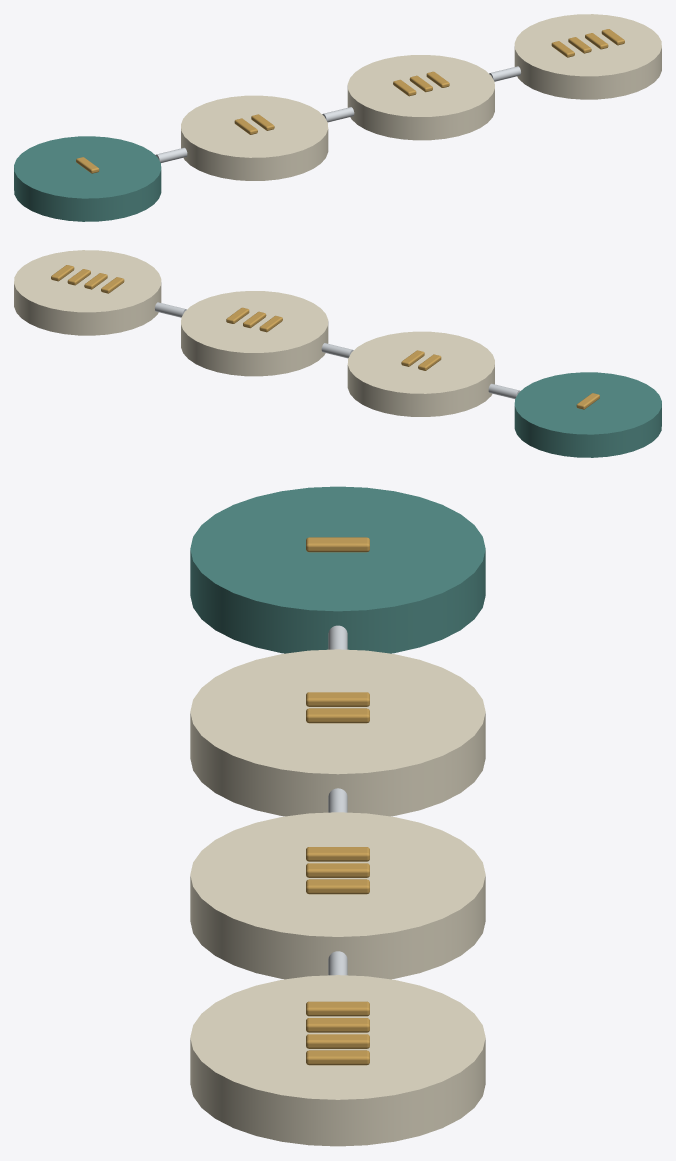
The model's file is path.glb.
3 views of the same model, one above another, from view 1: azimuth 30°, elevation 25°; view 2: azimuth 150°, elevation 25°; view 3: azimuth 270°, elevation 25° (orthographic). The views are drawn at different scales.
Parts seen in each view (by area): view 1: path; view 2: path; view 3: path.
Boxes of the visible parts, x1=… form: path: x1=14, y1=14, x2=661, y2=221; path: x1=14, y1=250, x2=661, y2=457; path: x1=190, y1=486, x2=485, y2=1146.
Size of the model in its own units: 2.26 by 0.0945 by 0.46.
